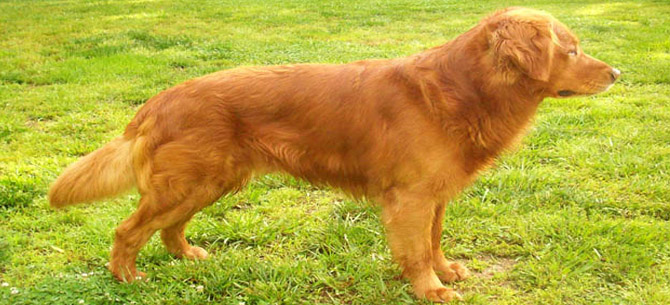dog: (39, 9, 623, 290)
